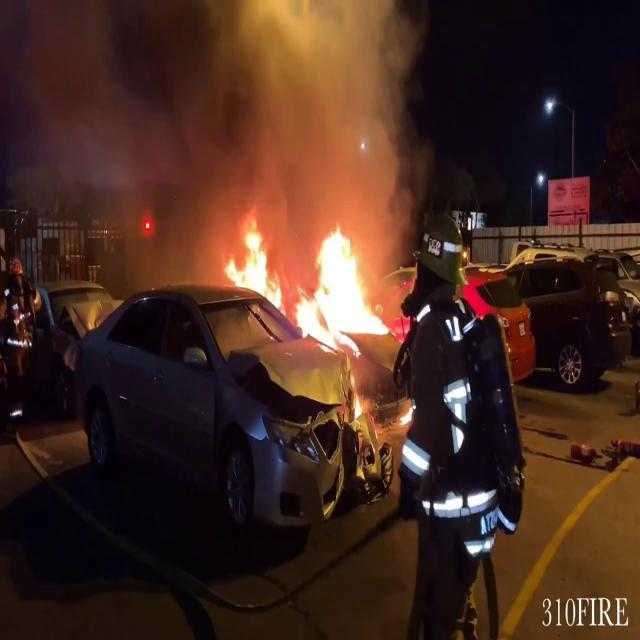Fire: (220, 215, 392, 342)
Smoke: (3, 0, 442, 244)
